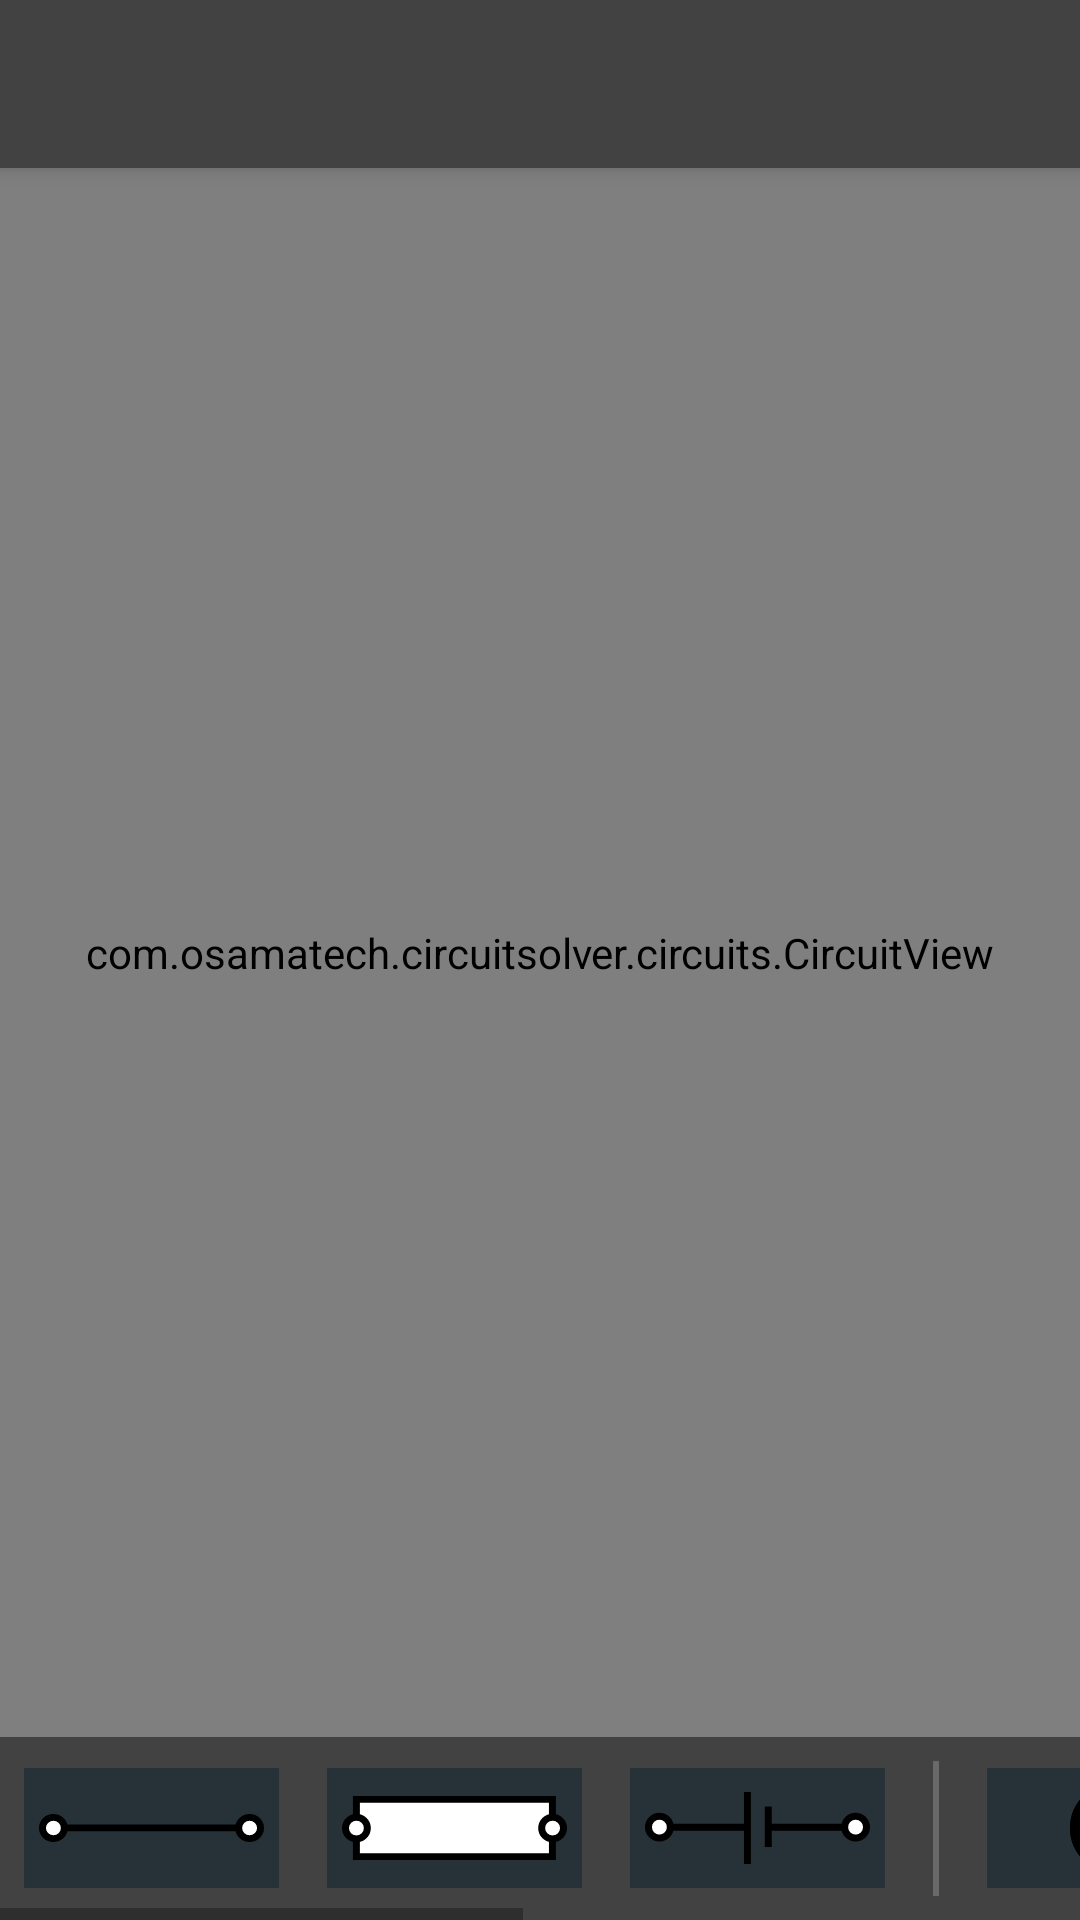

Screen size 1080 × 1920. Icon name, then its box in pixels as (x1, y1, x2, y2):
battery: (630, 1768, 885, 1888)
resistor: (327, 1768, 582, 1888)
wire: (24, 1768, 279, 1888)
